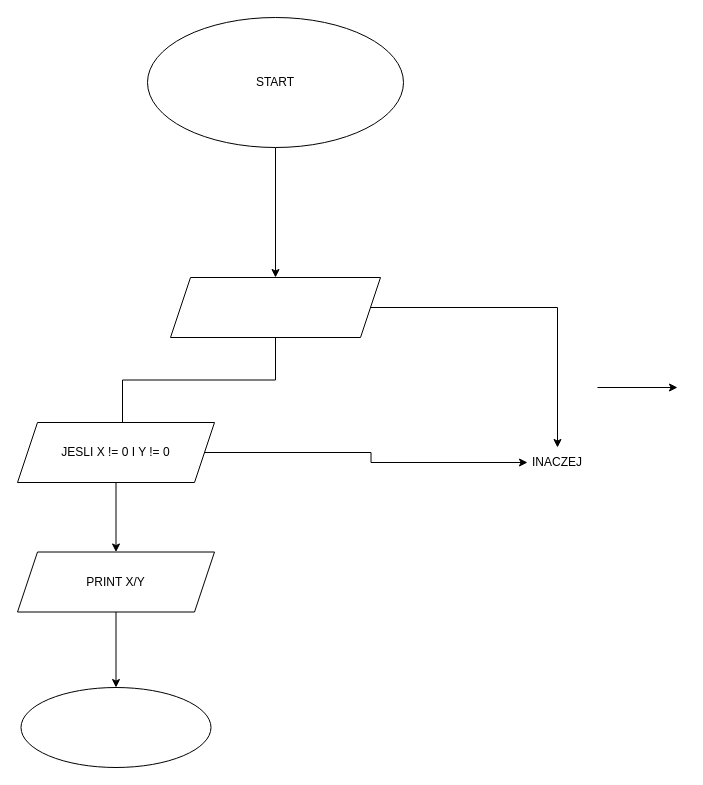
The diagram is 703 pixels wide and 785 high, and some of its shapes have lost their labels. Here are the shapes that lost their labels. From the top down, the centre of each, then its label:
[275,307]: PODAJ X I Y
[115,727]: STOP
